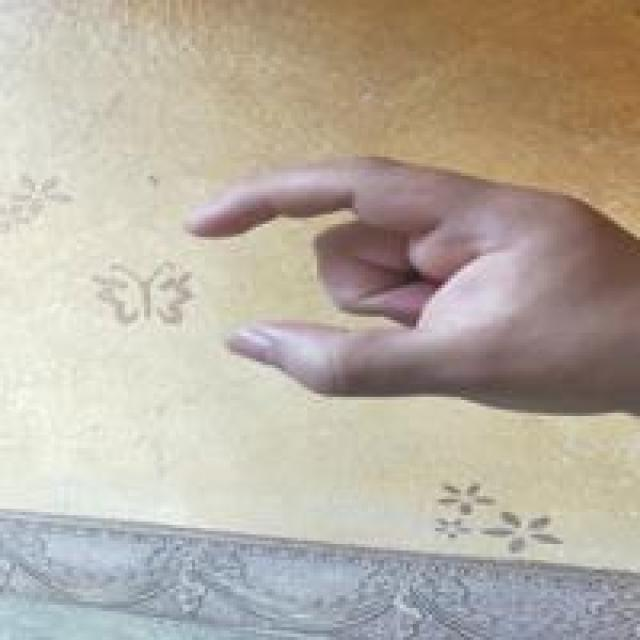Q: (176, 150, 634, 420)
